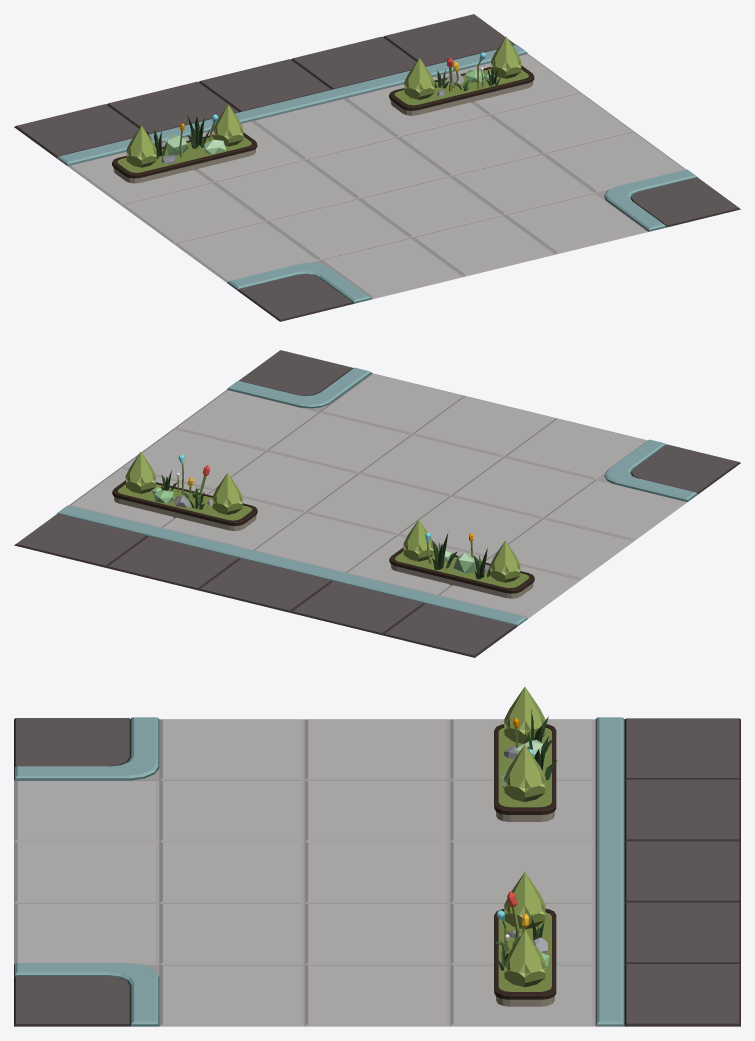
Rendered from Fork_A.glb.
3 views of the same model, one above another, from view 1: azimuth 30°, elevation 25°; view 2: azimuth 150°, elevation 25°; view 3: azimuth 270°, elevation 25° (orthographic). The views are drawn at different scales.
Visible parts, largest first — view 1: Fork_A, Cube.249, Cube.250, Cone.120, Cone.119, Cone.118, Cone.121; view 2: Fork_A, Cube.249, Cube.250, Cone.119, Cone.120, Cone.118, Cone.121; view 3: Fork_A, Cube.250, Cube.249, Cone.121, Cone.118, Cone.119, Cone.120.
Boxes of the visible parts, x1,y1,x2,y2 form: Fork_A: [14, 14, 740, 321]; Cube.249: [389, 65, 534, 115]; Cube.250: [112, 132, 257, 183]; Cone.120: [126, 125, 156, 167]; Cone.119: [404, 58, 434, 99]; Cone.118: [491, 36, 521, 78]; Cone.121: [213, 104, 243, 146]; Fork_A: [14, 350, 740, 657]; Cube.249: [112, 480, 257, 531]; Cube.250: [389, 547, 534, 598]; Cone.119: [212, 473, 242, 514]; Cone.120: [490, 540, 520, 582]; Cone.118: [125, 452, 155, 493]; Cone.121: [403, 519, 433, 561]; Fork_A: [14, 717, 740, 1026]; Cube.250: [494, 724, 556, 821]; Cube.249: [494, 909, 556, 1006]; Cone.121: [504, 744, 545, 801]; Cone.118: [504, 930, 545, 987]; Cone.119: [504, 872, 545, 929]; Cone.120: [504, 687, 545, 743].
Size of what is drawn, in the model's own units: 16 by 1.59 by 16.
Materials: 1 (1 with a texture image).
